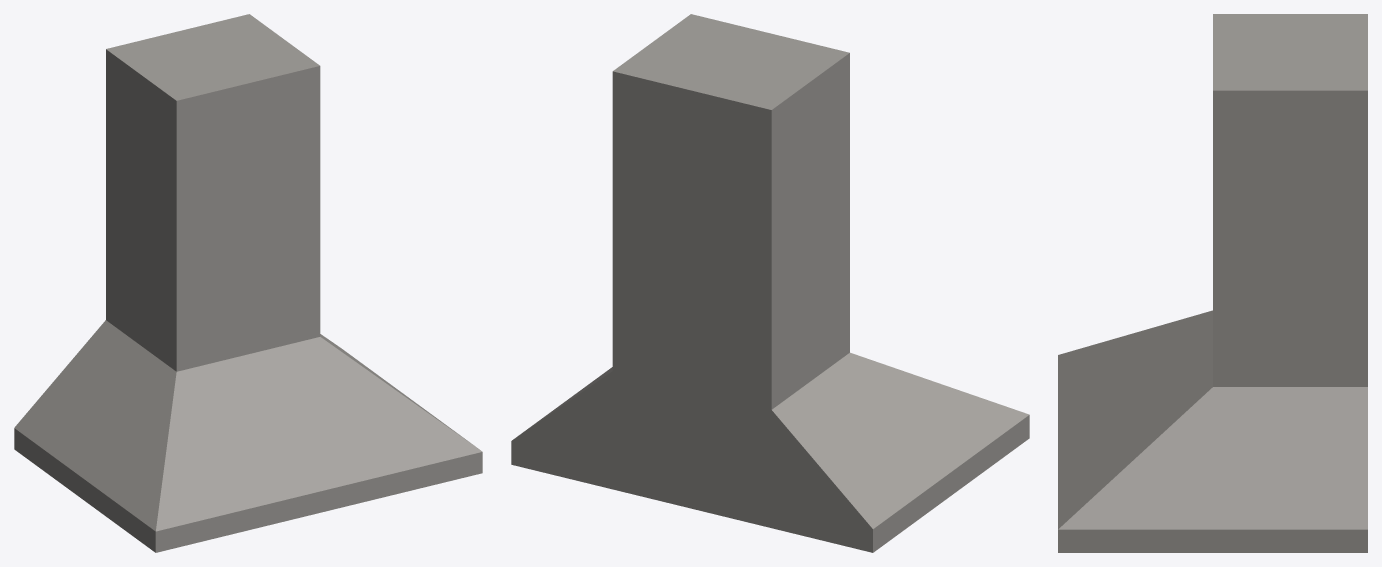
The model's file is SM_Props_Interior_House_Kitchen_Hood.fbx.
3 renders of one model, left to right at view 1: azimuth 30°, elevation 25°; view 2: azimuth 150°, elevation 25°; view 3: azimuth 270°, elevation 25°, orthographic. The views are drawn at different scales.
Parts seen in each view (by area): view 1: SM_Props_Interior_House_Kitchen_Hood; view 2: SM_Props_Interior_House_Kitchen_Hood; view 3: SM_Props_Interior_House_Kitchen_Hood.
Part boxes in pixels (bbox=[...]): SM_Props_Interior_House_Kitchen_Hood: bbox=[14, 14, 482, 552]; SM_Props_Interior_House_Kitchen_Hood: bbox=[511, 14, 1029, 552]; SM_Props_Interior_House_Kitchen_Hood: bbox=[1058, 14, 1367, 552].
Size of the model in its own units: 96 by 106 by 72.
